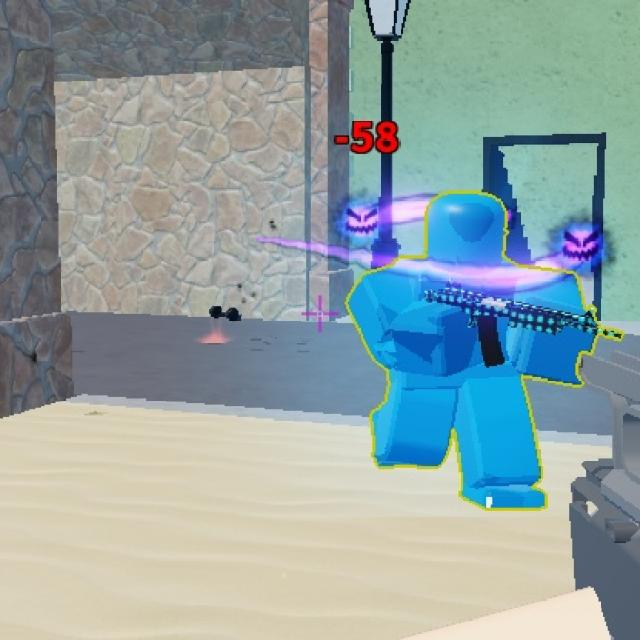player: (396, 179, 519, 474)
